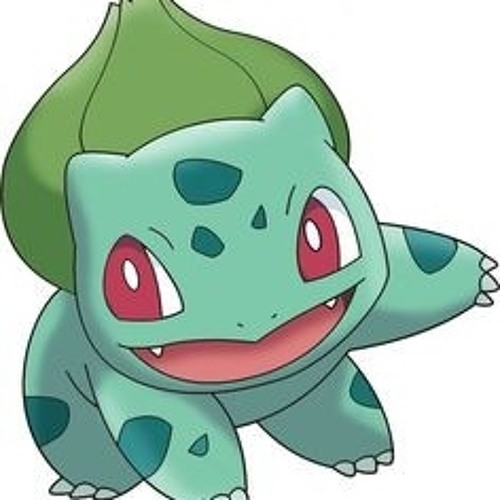001-bulbasaur: (4, 6, 496, 498)
